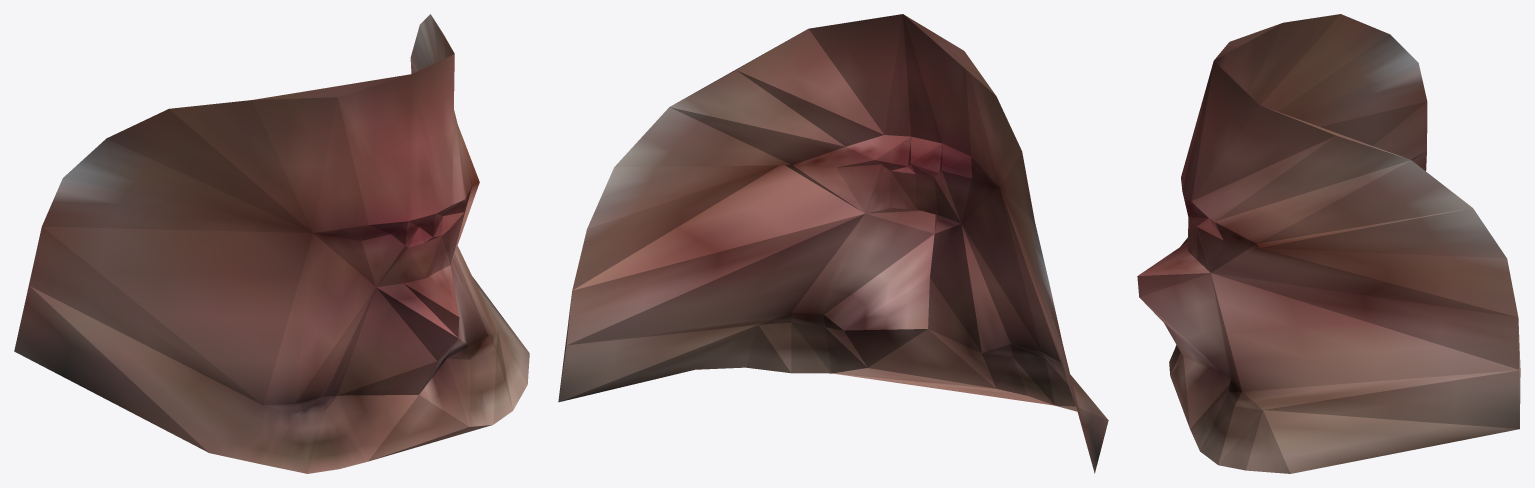
File: fake_55264.obj
3 views of the same model, side by side, from view 1: azimuth 30°, elevation 25°; view 2: azimuth 150°, elevation 25°; view 3: azimuth 270°, elevation 25° (orthographic). The views are drawn at different scales.
Bounding box in the file's own units: 111 × 84 × 82.12.
